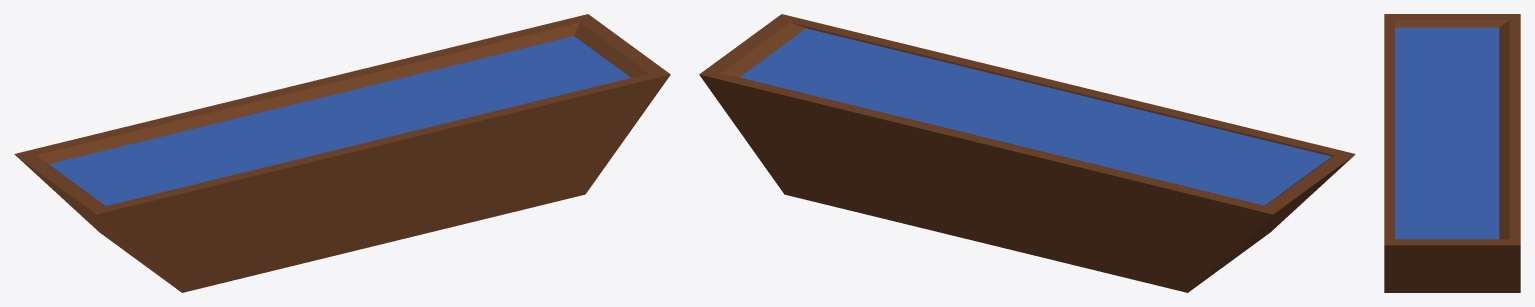
File: Waterer Dish_1.fbx
The picture shows the model from 3 angles, left to right: view 1: azimuth 30°, elevation 25°; view 2: azimuth 150°, elevation 25°; view 3: azimuth 270°, elevation 25°; orthographic projection. The views are drawn at different scales.
Parts seen in each view (by area): view 1: Waterer Dish_1; view 2: Waterer Dish_1; view 3: Waterer Dish_1.
Part boxes in pixels (x1=…): Waterer Dish_1: x1=14, y1=14, x2=670, y2=292; Waterer Dish_1: x1=699, y1=14, x2=1355, y2=292; Waterer Dish_1: x1=1384, y1=14, x2=1520, y2=292.
Bounding box in the file's own units: 224 × 36.94 × 55.78.
